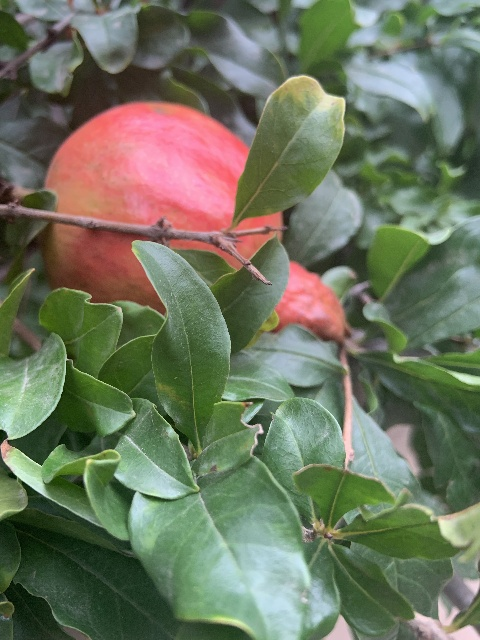ripe: (36, 103, 351, 344)
